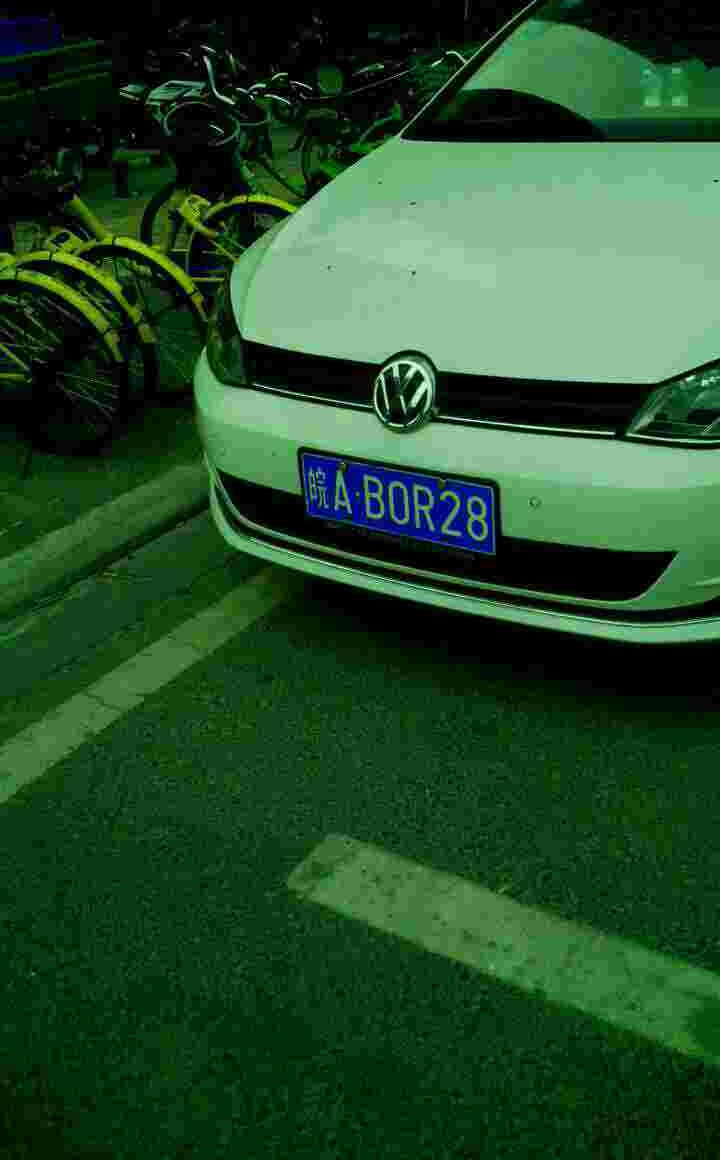car: (300, 444, 512, 547)
